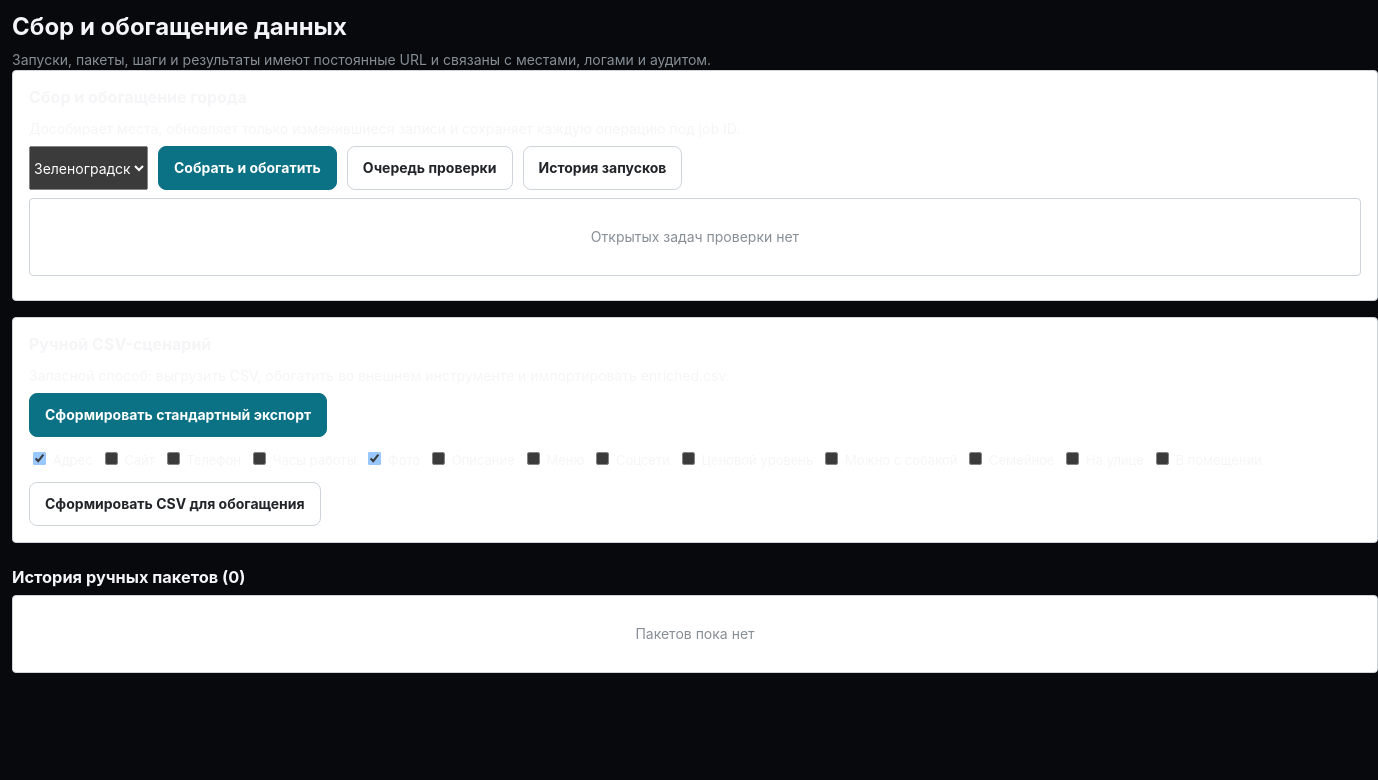
it: AdminPlaceEnrichmentPage › shows pipeline error state
Click the button "Собрать и обогатить" at coordinates (247, 168), box [158,146,337,190]
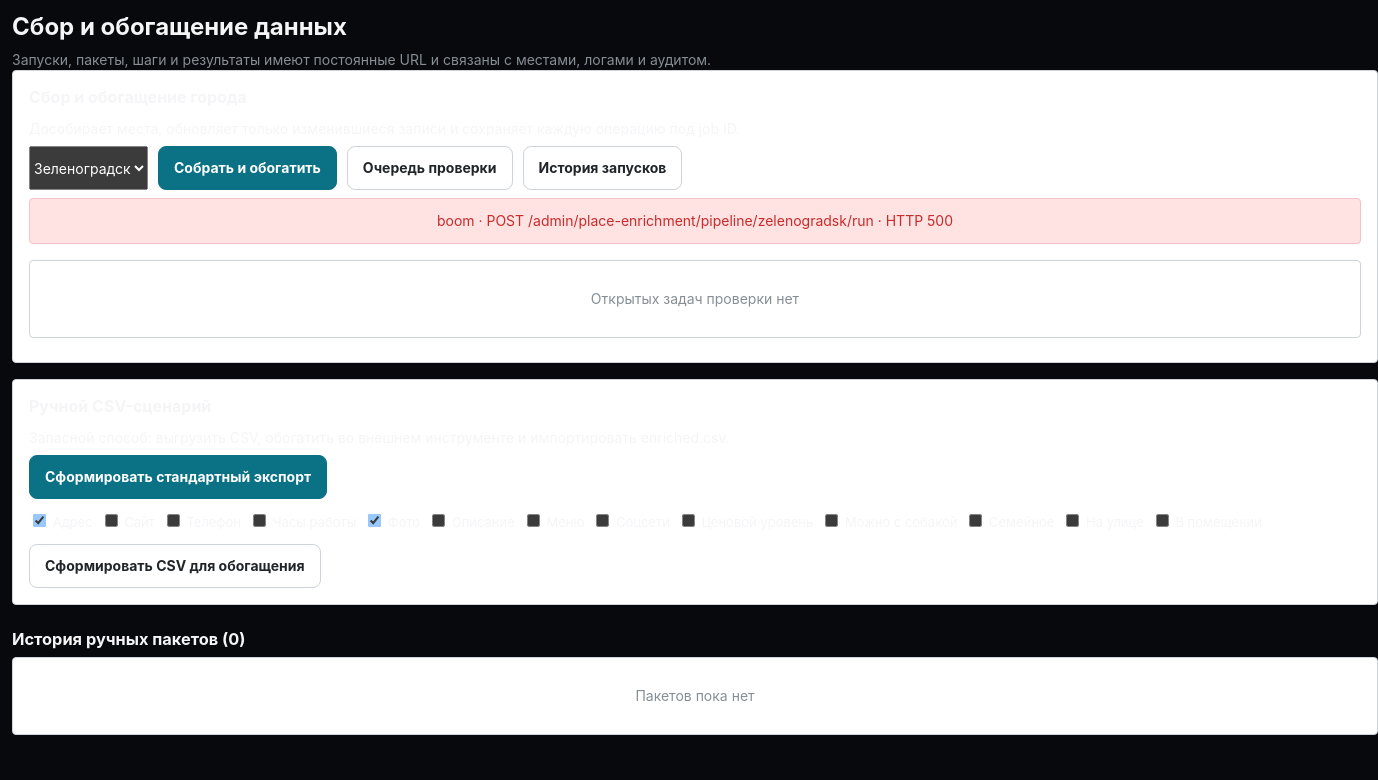
Result: the text "boom" is shown at [437,212,953,229]
